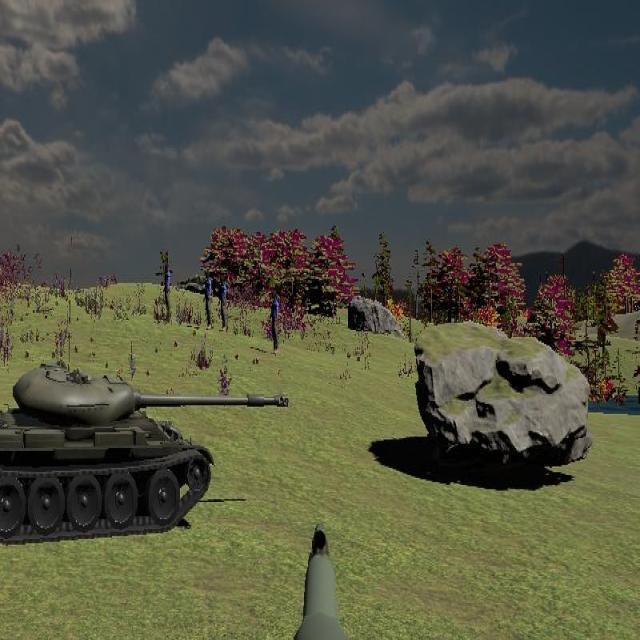Tank: (0, 362, 290, 544)
